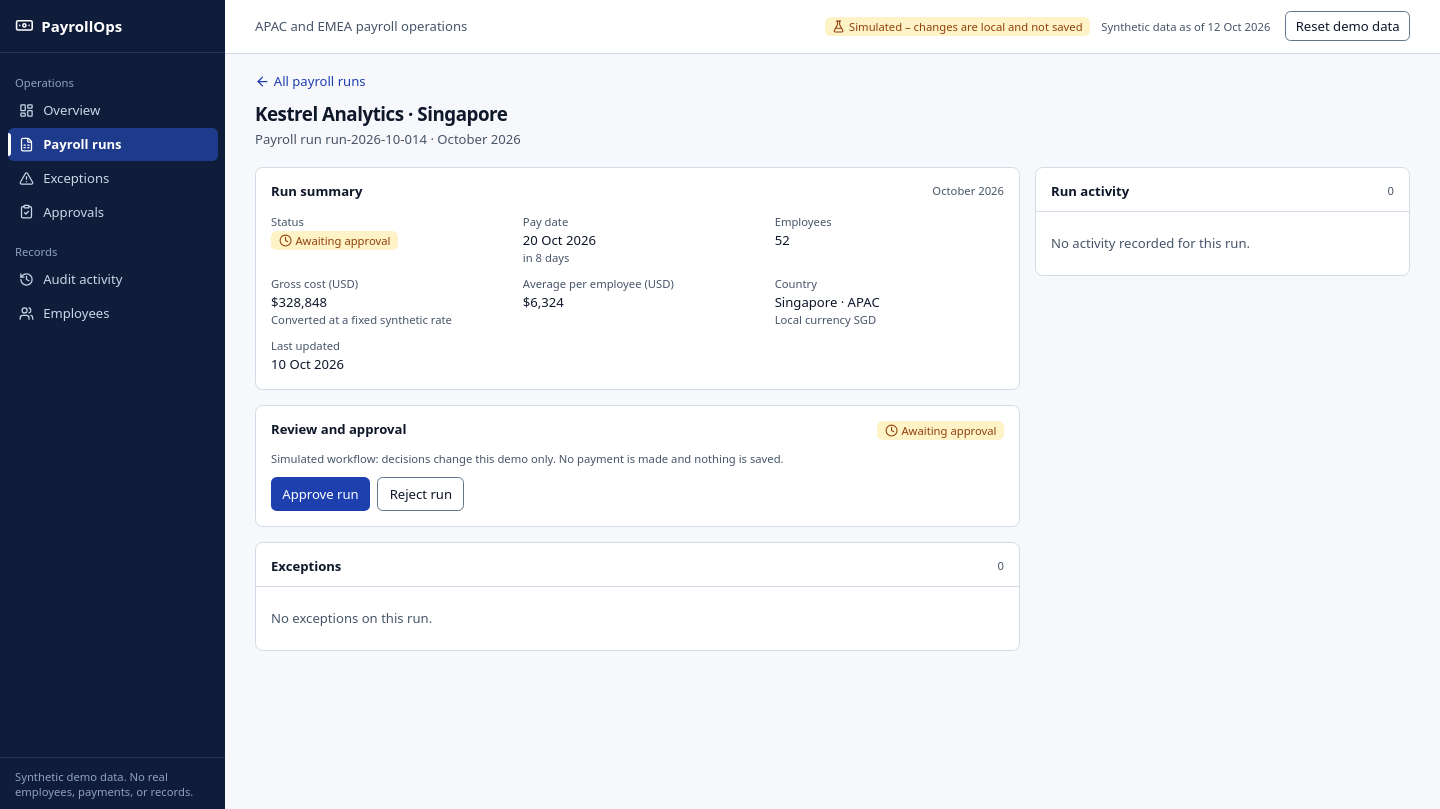
Test: one workflow, every view › shows an approval on the run, the Overview, and the runs list, and Reset undoes it everywhere
The image size is (1440, 809).
Click the button "Approve run".
click(320, 494)  # box [271,477,370,511]
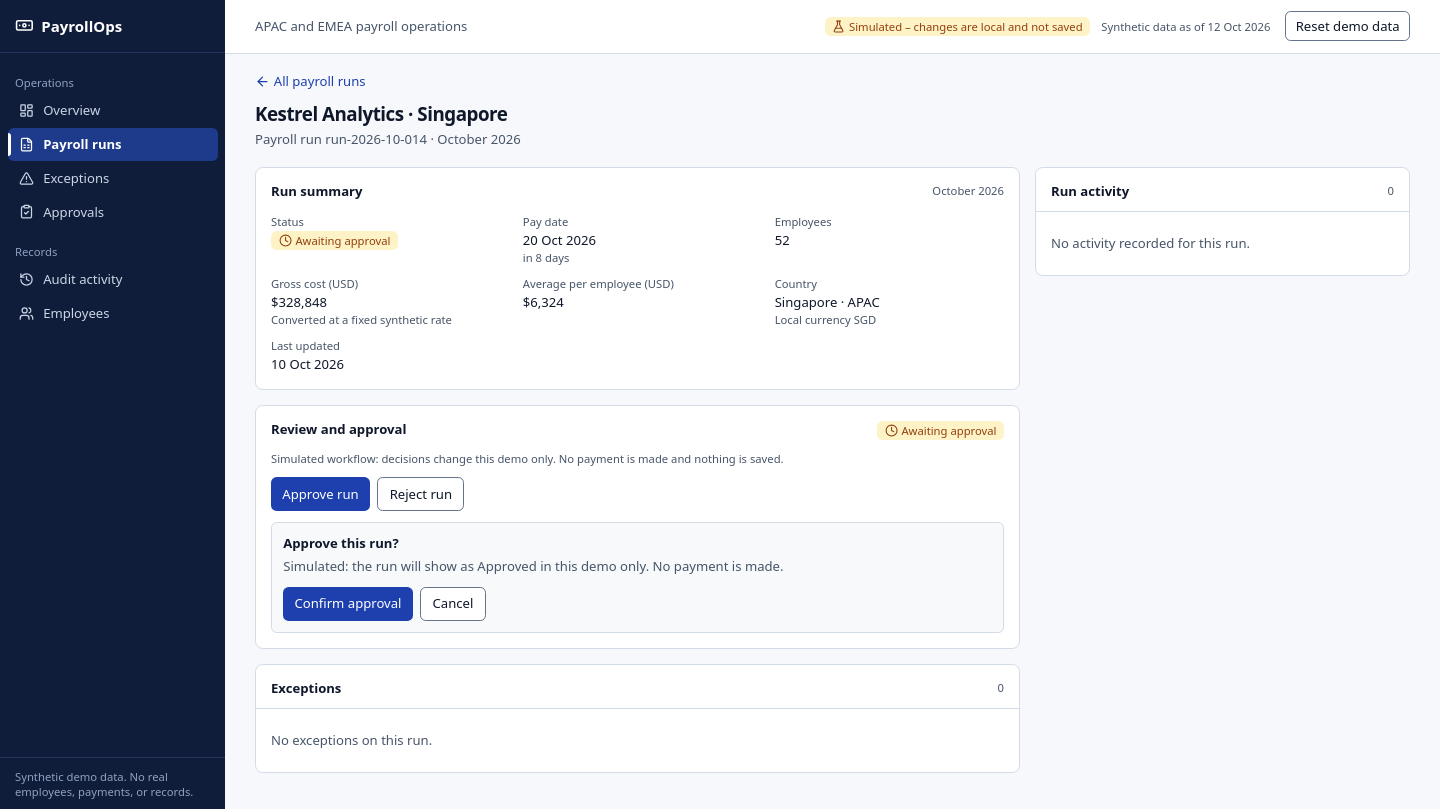
Click the button "Confirm approval".
click(348, 604)  # box [283,587,413,621]
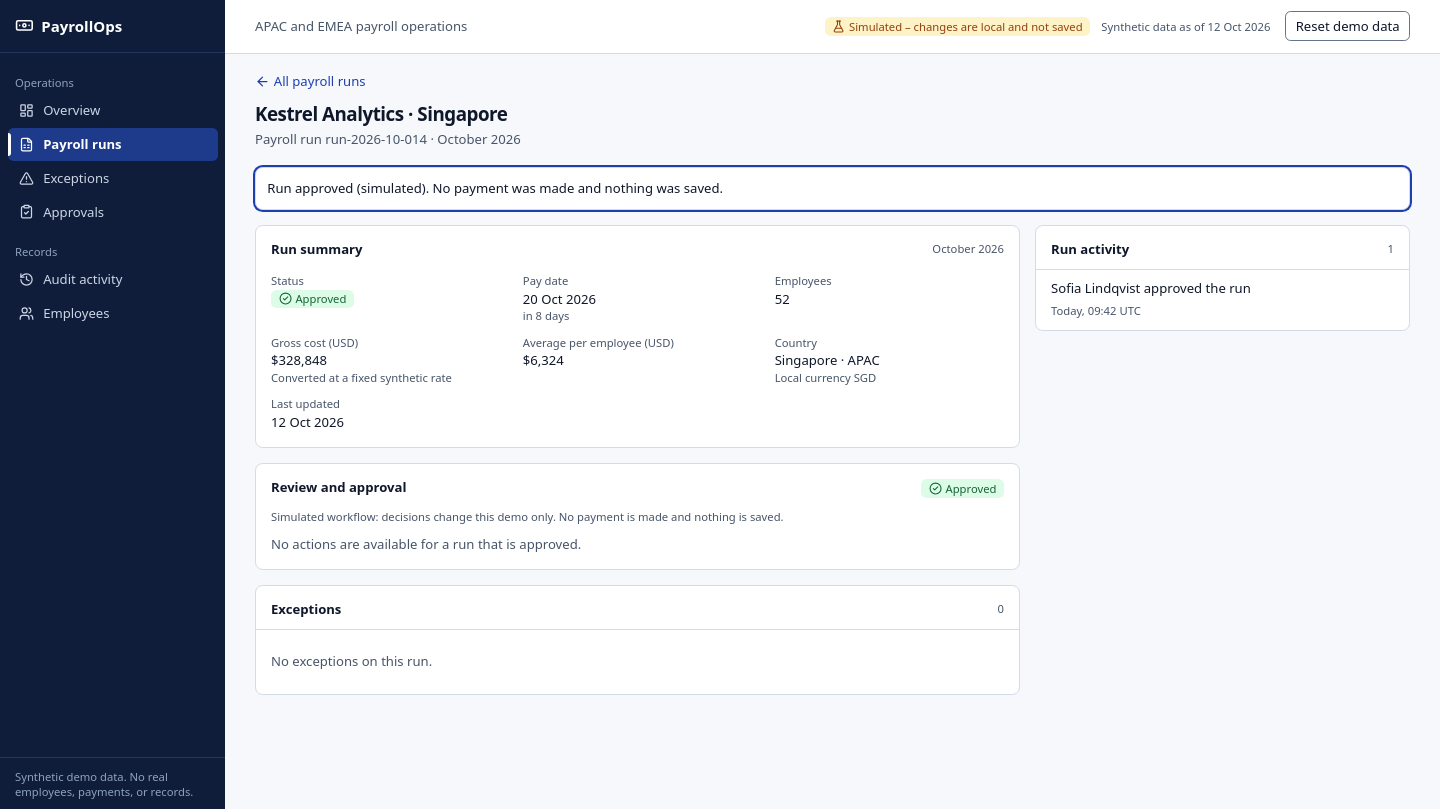
Click the link "Overview".
click(60, 110)  # box [19,101,100,119]
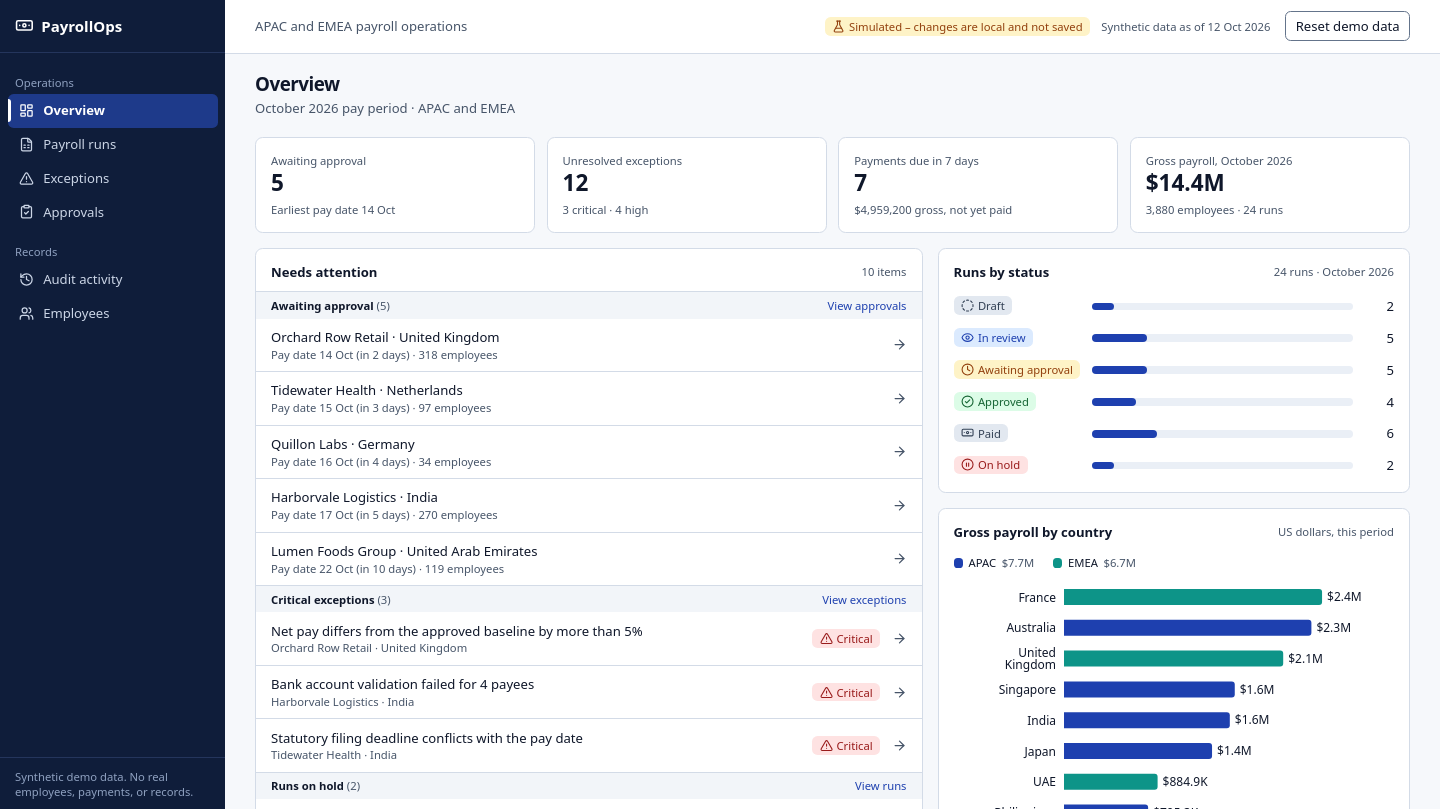
Check: the link "Awaiting approval 5 Earliest pay date 14 Oct" is shown, box [271,153,395,217]
Check: the heading "Awaiting approval (5)" is shown, box [271,298,390,313]
Check: the list items read "Draft2", "In review5", "Awaiting approval5", "Approved4", "Paid6", "On hold2", in this order, box [954,295,1394,318]; [954,327,1394,350]; [954,359,1394,381]; [954,391,1394,413]; [954,423,1394,445]; [954,454,1394,477]
Click the link "Payroll runs".
click(68, 144)  # box [19,135,116,153]
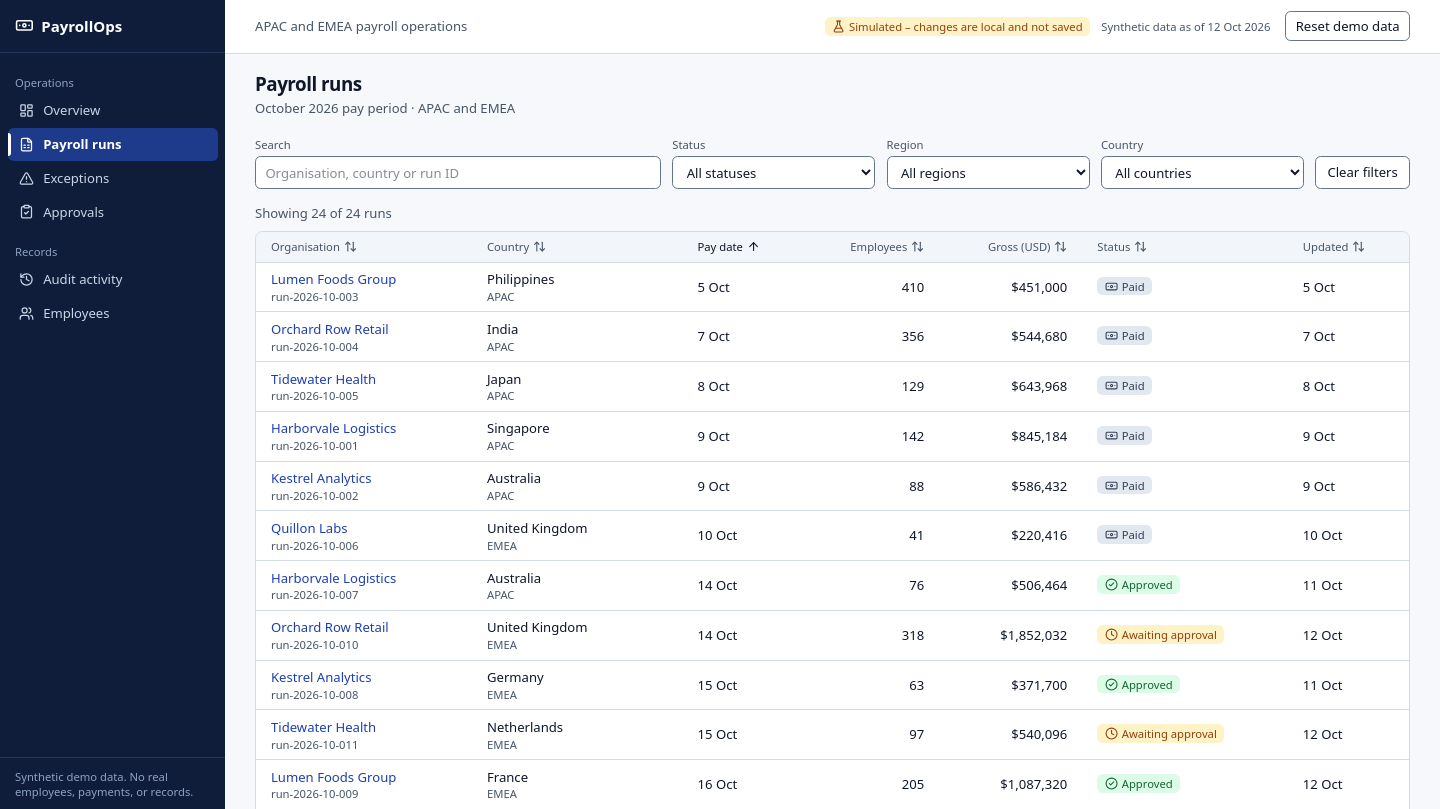
Click the button "Reset demo data".
click(1348, 26)  # box [1285,11,1410,41]
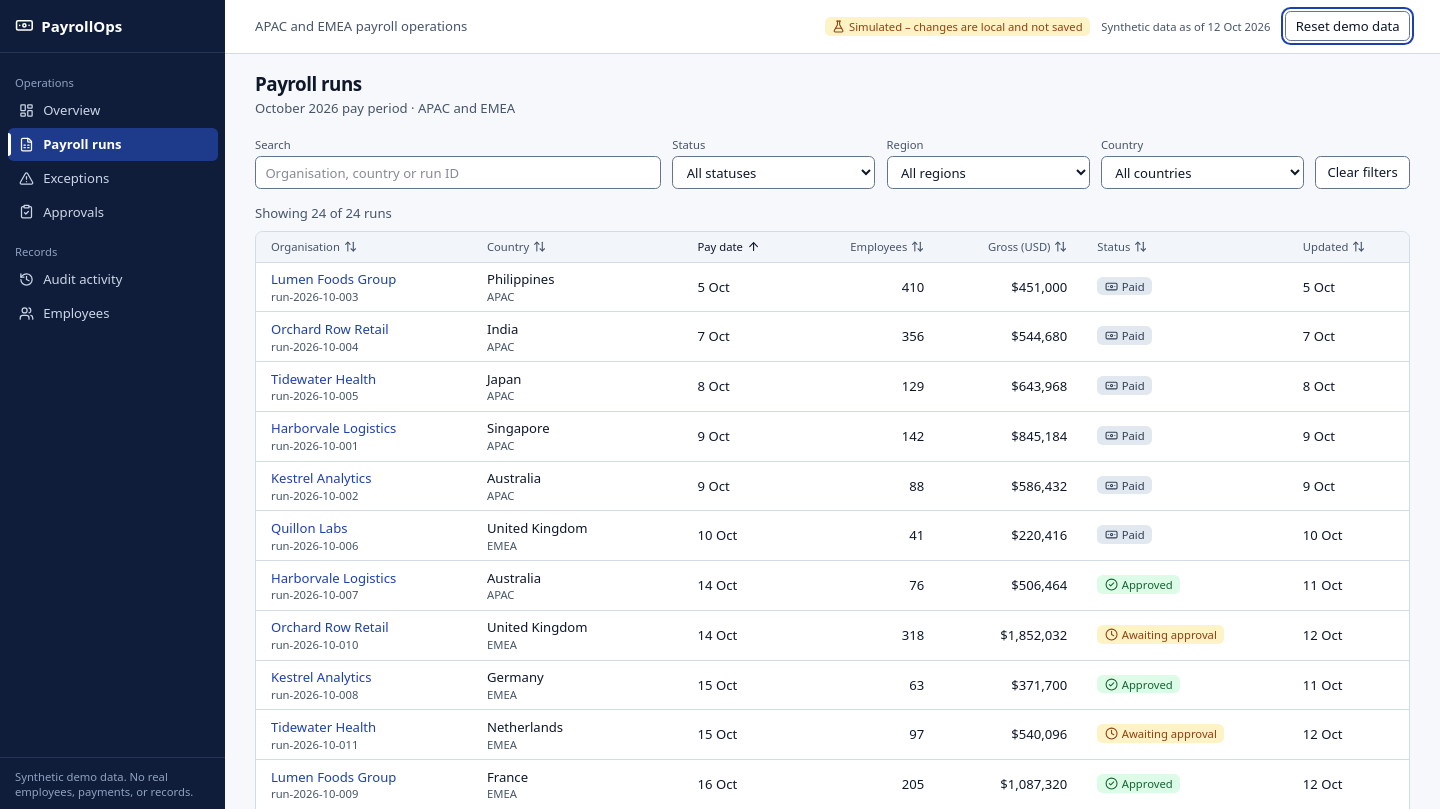
Click the link "Overview".
click(60, 110)  # box [19,101,100,119]
(page scrolled)
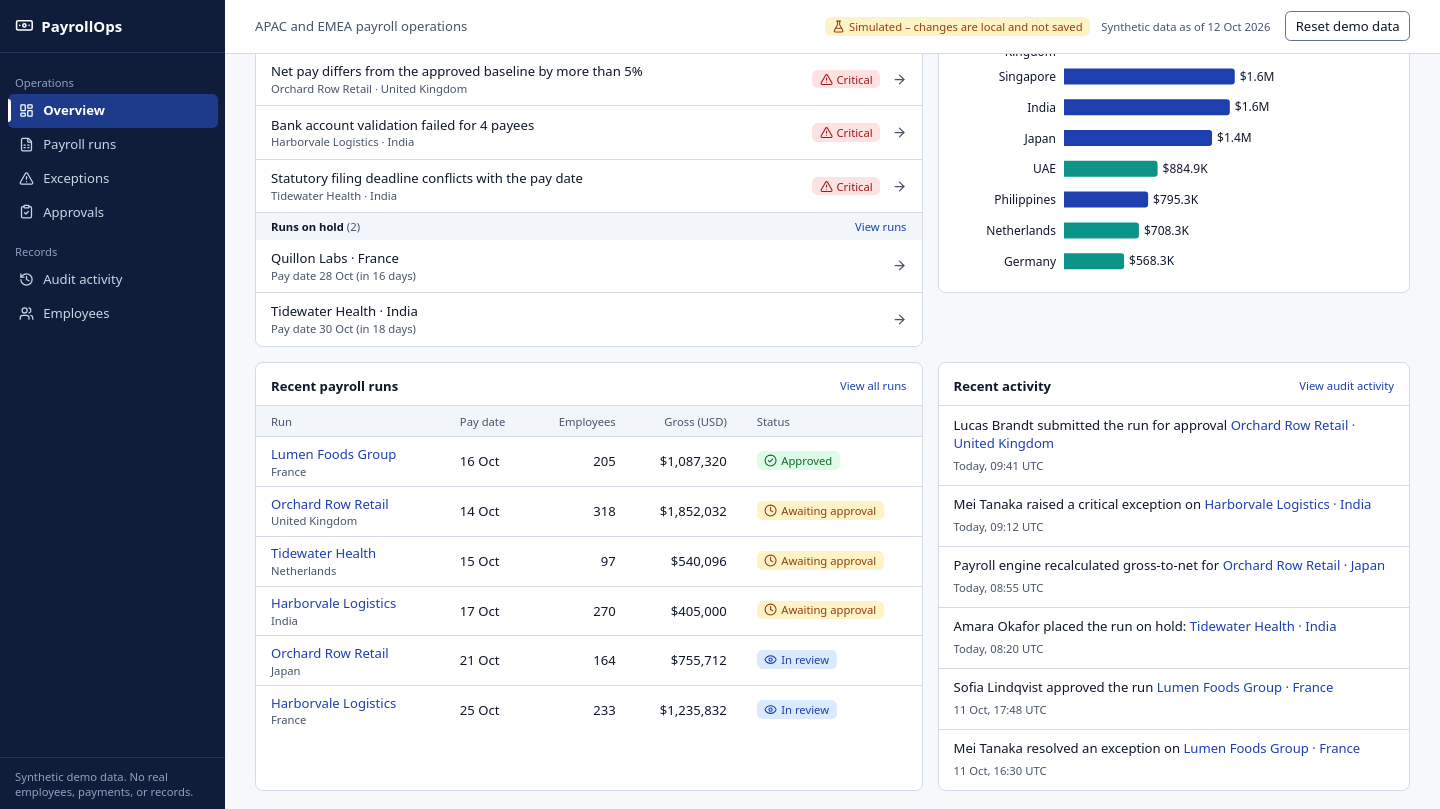
Check: the list item that starts with "Lucas Brandt" shows "Lucas Brandt submitted the run for approval", box [938,406,1409,485]
